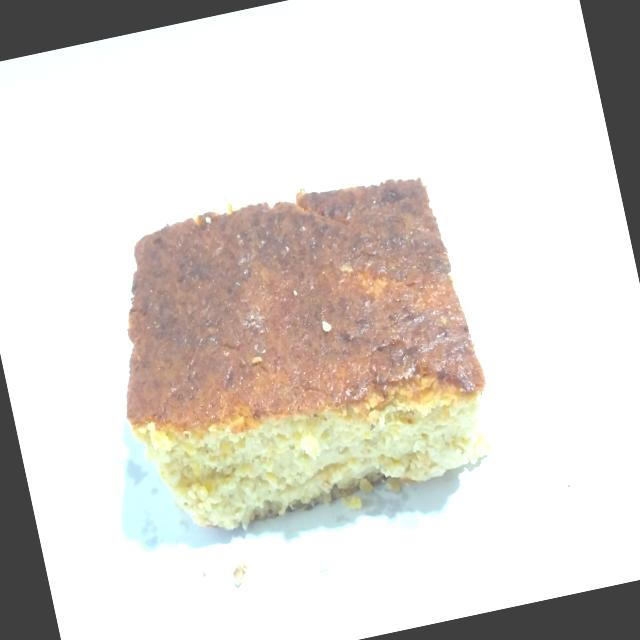Chipa_Guazu: (75, 140, 525, 558)
